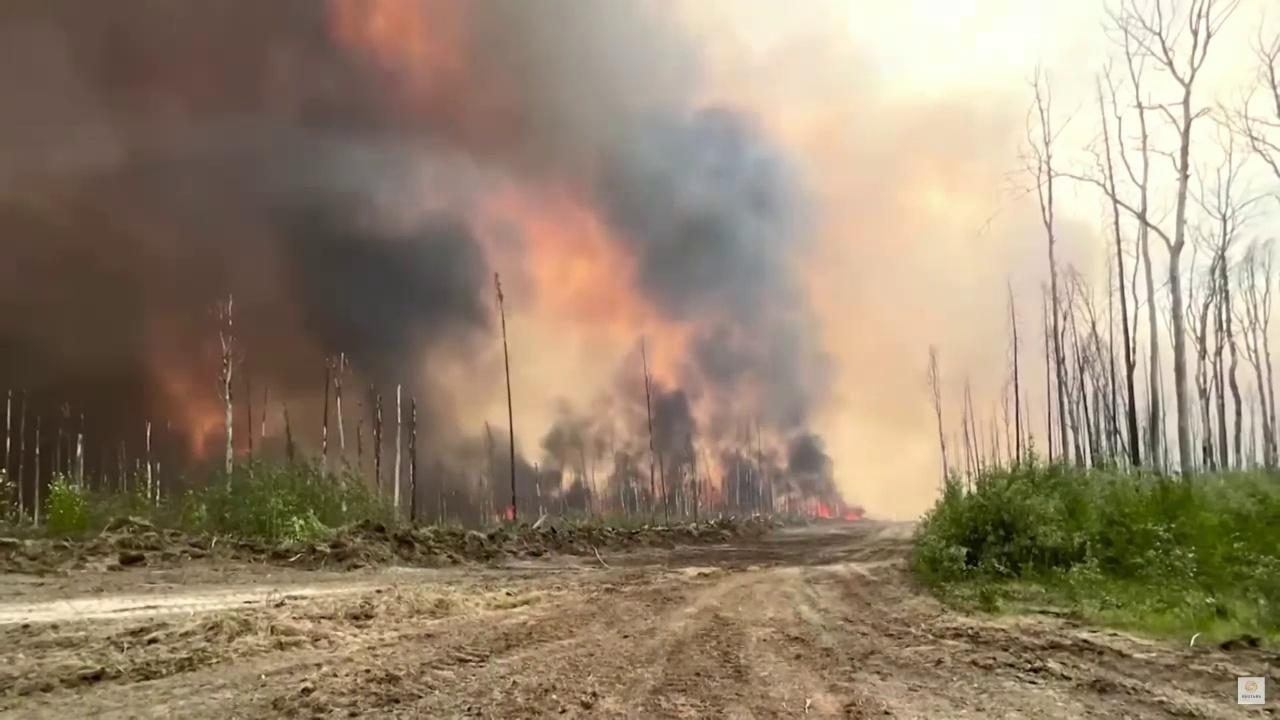fire: (806, 499, 834, 520), (501, 504, 516, 521), (840, 510, 862, 521)
smoke: (0, 0, 869, 524)
